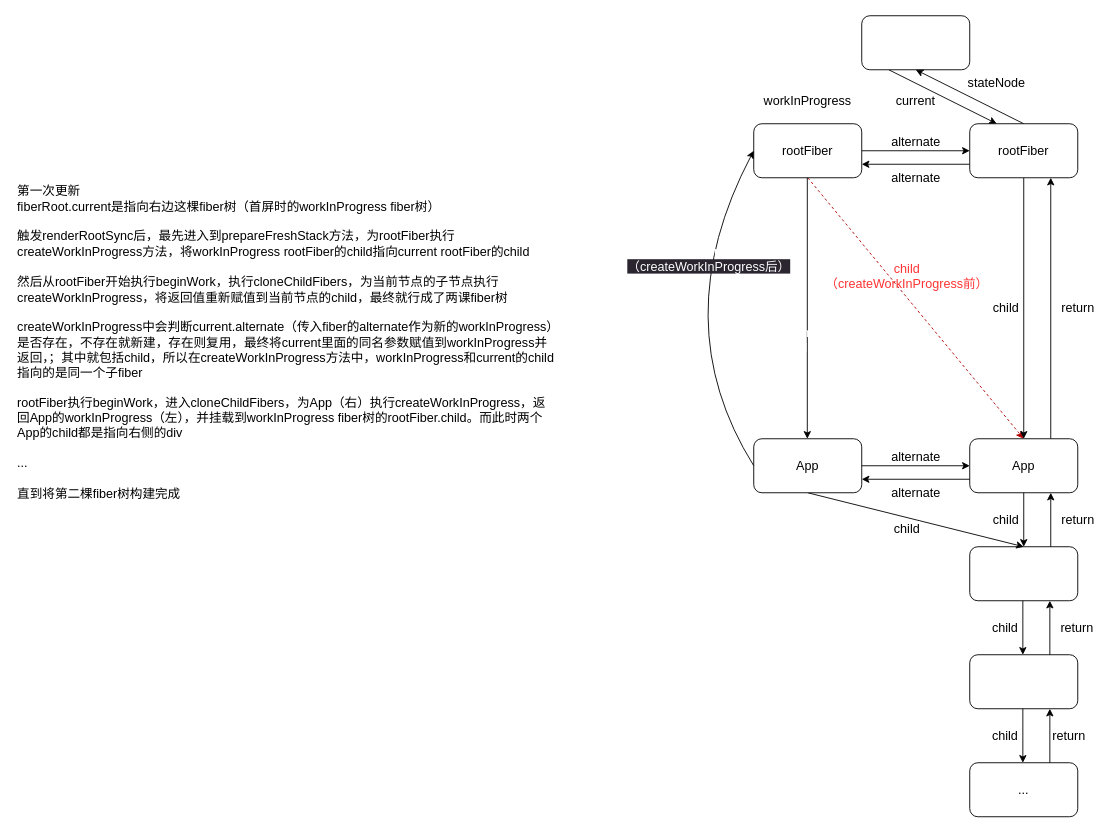
This 1110x833 diagram has some shape labels left out. The box of each missing label's shape, as (x1, y1, x2, y2) in pixels:
div: (969, 546, 1078, 601)
fiberRoot: (861, 15, 970, 70)
main: (969, 654, 1078, 709)
